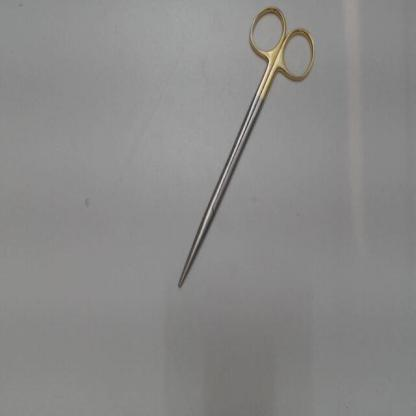7 Metzenbaum Scissors: (178, 2, 316, 289)
